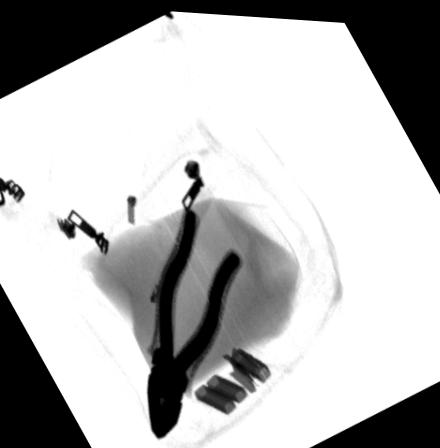Pliers: (144, 202, 243, 436)
